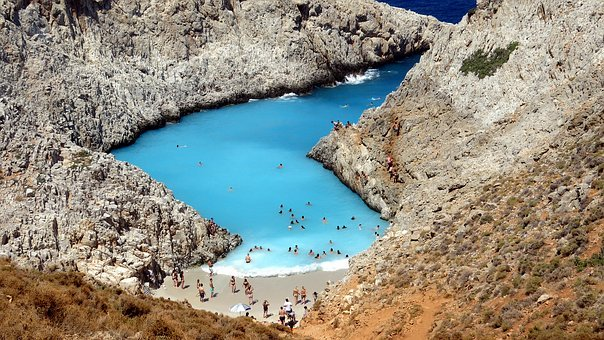beach: (138, 90, 398, 325)
stone: (406, 15, 604, 337), (1, 1, 157, 283)
